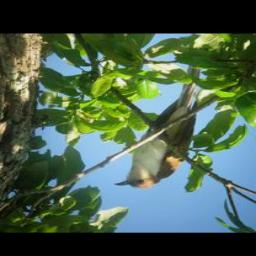Cuckoo: (110, 61, 204, 191)
